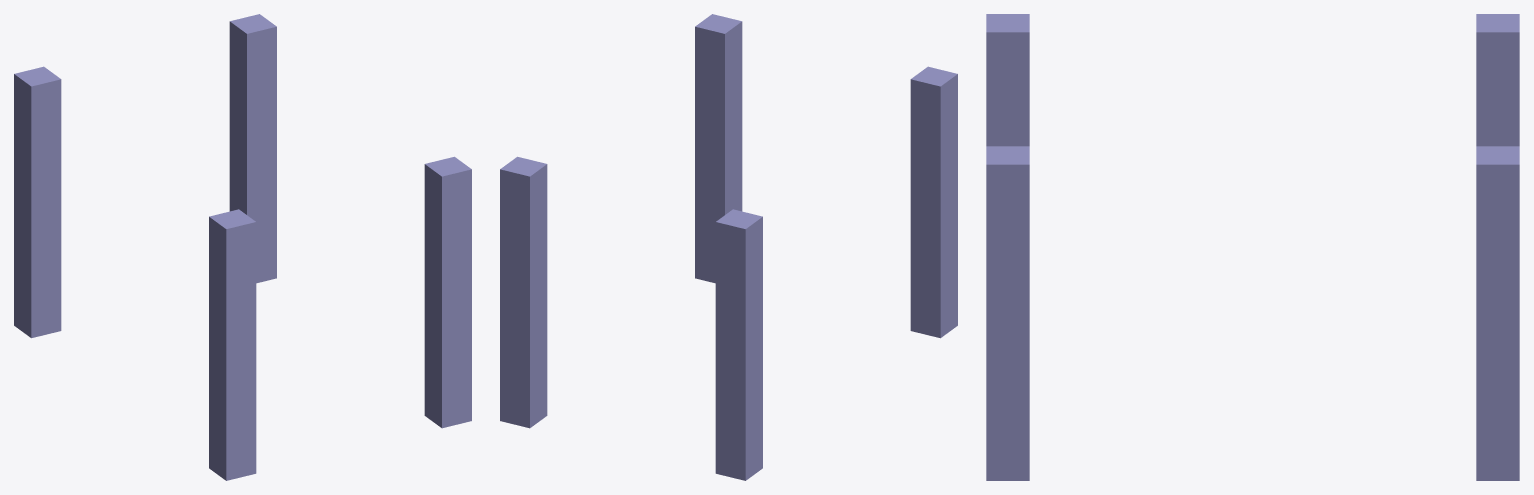
Rendered from QMag0Leg.gltf.
3 renders of one model, left to right at view 1: azimuth 30°, elevation 25°; view 2: azimuth 150°, elevation 25°; view 3: azimuth 270°, elevation 25°, orthographic. The views are drawn at different scales.
Parts seen in each view (by area): view 1: logicQMag0Leg_pv0x2231870, logicQMag0Leg_pv0x2231838, logicQMag0Leg_pv0x22318e0, logicQMag0Leg_pv0x22318a8; view 2: logicQMag0Leg_pv0x2231838, logicQMag0Leg_pv0x2231870, logicQMag0Leg_pv0x22318a8, logicQMag0Leg_pv0x22318e0; view 3: logicQMag0Leg_pv0x22318a8, logicQMag0Leg_pv0x22318e0, logicQMag0Leg_pv0x2231838, logicQMag0Leg_pv0x2231870.
Boxes of the visible parts, x1,y1,x2,y2 form: logicQMag0Leg_pv0x2231870: (209,209,256,480); logicQMag0Leg_pv0x2231838: (14,66,61,338); logicQMag0Leg_pv0x22318e0: (424,156,471,428); logicQMag0Leg_pv0x22318a8: (229,14,276,283); logicQMag0Leg_pv0x2231838: (715,209,762,480); logicQMag0Leg_pv0x2231870: (910,66,957,338); logicQMag0Leg_pv0x22318a8: (500,156,547,428); logicQMag0Leg_pv0x22318e0: (695,14,742,283); logicQMag0Leg_pv0x22318a8: (1476,146,1519,480); logicQMag0Leg_pv0x22318e0: (986,146,1029,480); logicQMag0Leg_pv0x2231838: (1476,14,1519,146); logicQMag0Leg_pv0x2231870: (986,14,1029,146).
Size of the model in its own units: 127 by 124 by 190.
